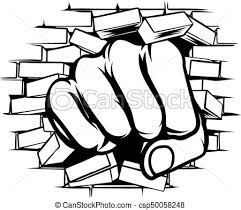fist: (58, 50, 198, 163)
